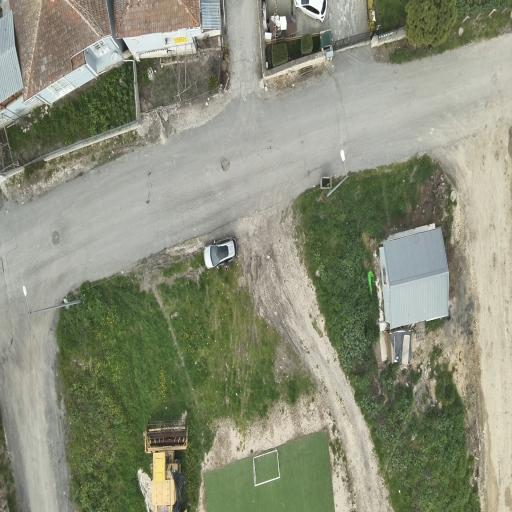car: (204, 238, 237, 268), (294, 0, 326, 22)
harvester: (145, 421, 187, 511)
